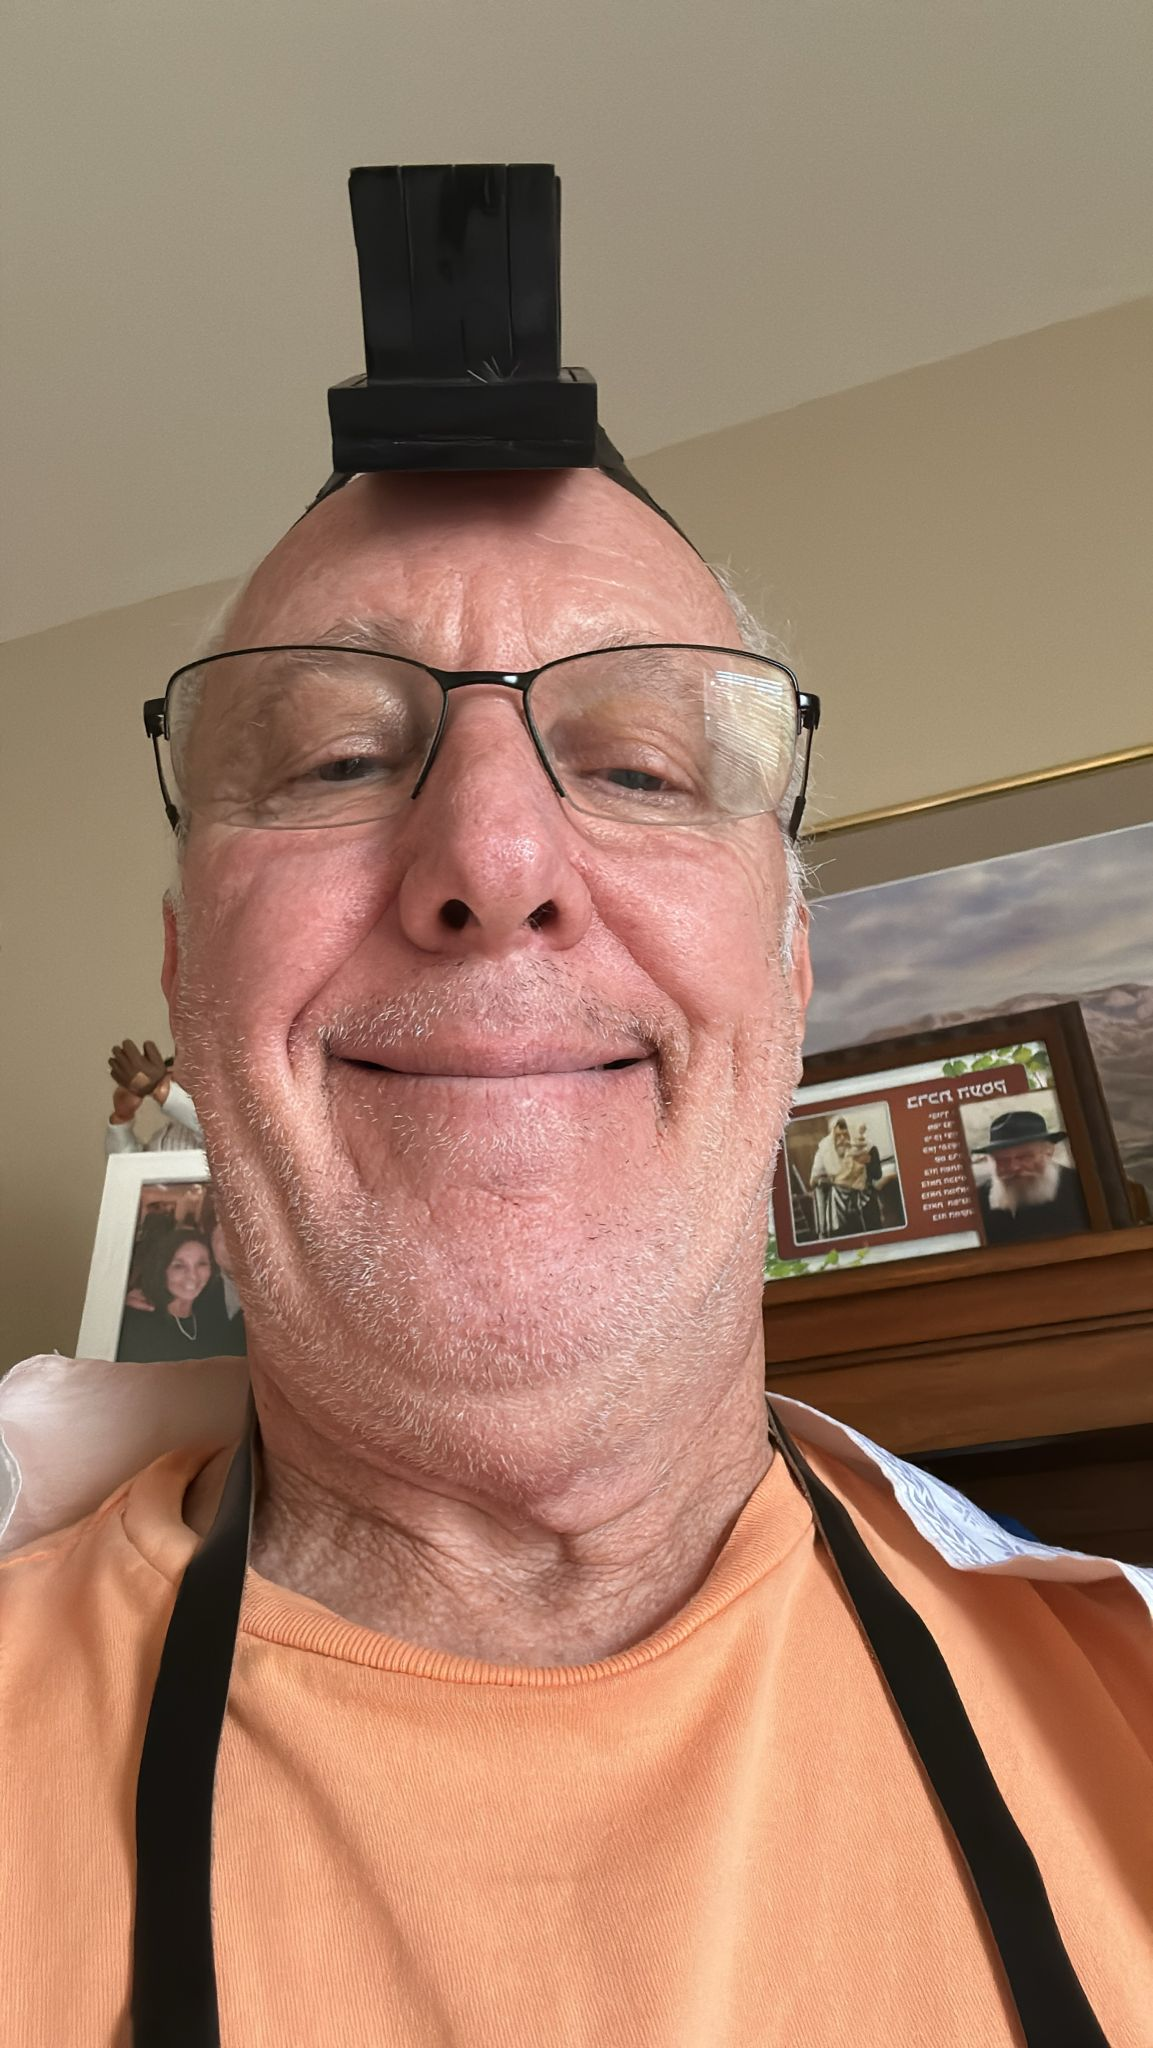tefillin: (322, 162, 595, 474)
